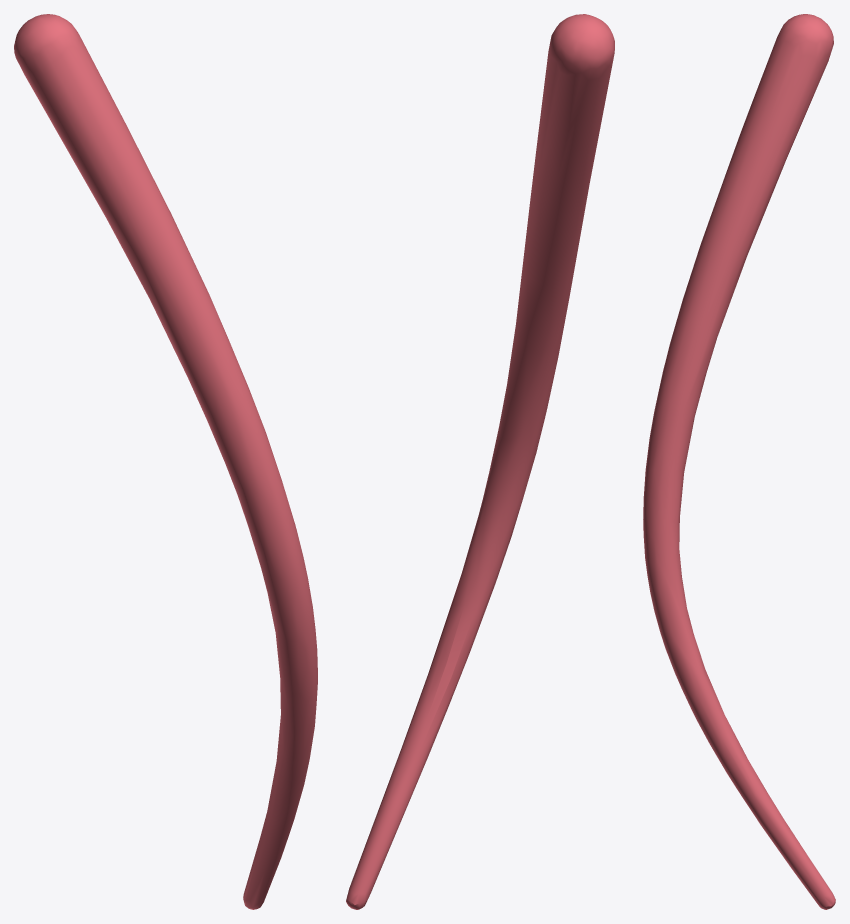
File: fma15800_fj3086.glb
The picture shows the model from 3 angles, left to right: view 1: azimuth 30°, elevation 25°; view 2: azimuth 150°, elevation 25°; view 3: azimuth 270°, elevation 25°; orthographic projection. The views are drawn at different scales.
Visible parts, largest first — view 1: FMA15800_FJ3086; view 2: FMA15800_FJ3086; view 3: FMA15800_FJ3086.
Part boxes in pixels (x1,y1,x2,y2): FMA15800_FJ3086: (14,14,317,909); FMA15800_FJ3086: (346,14,614,909); FMA15800_FJ3086: (643,14,835,909).
Size of the model in its own units: 0.013 by 0.0462 by 0.0101.
